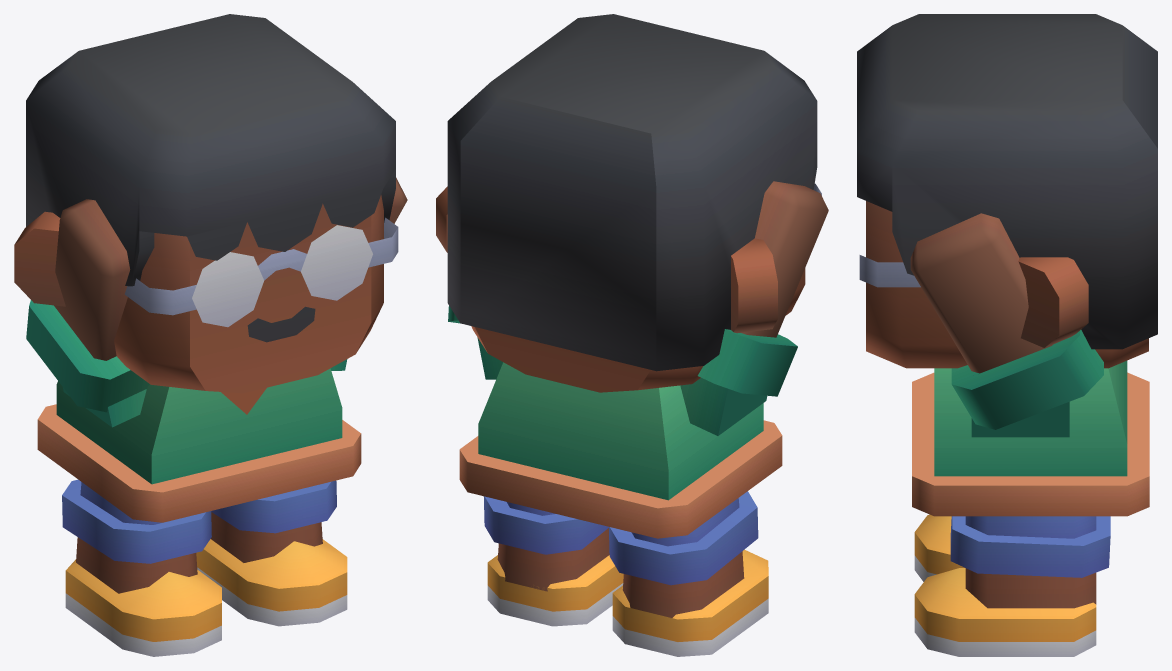
The model's file is people-male-a-idle.glb.
3 renders of one model, left to right at view 1: azimuth 30°, elevation 25°; view 2: azimuth 150°, elevation 25°; view 3: azimuth 270°, elevation 25°, orthographic.
Parts seen in each view (by area): view 1: character-male-a-idle; view 2: character-male-a-idle; view 3: character-male-a-idle.
Boxes of the visible parts, x1,y1,x2,y2 form: character-male-a-idle: (14,14,407,656); character-male-a-idle: (436,14,828,656); character-male-a-idle: (857,14,1157,656).
Size of the model in its own units: 0.4535 by 0.6713 by 0.34.
1 material, 1 textured.
